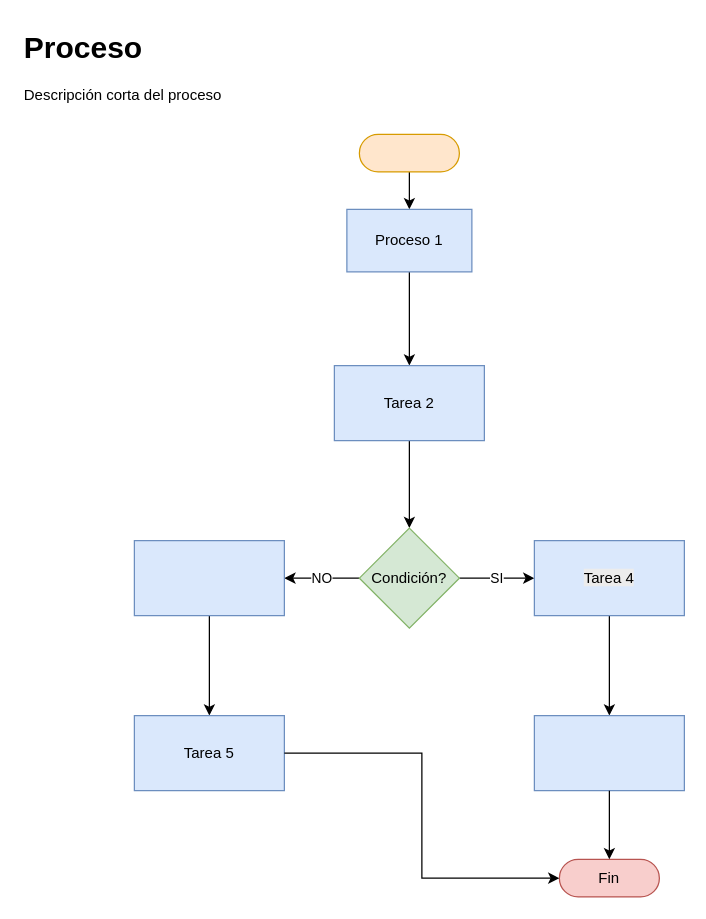
The diagram is 706 pixels wide and 919 high, and some of its shapes have lost their labels. Here are the shapes that lost their labels. From the top down, the box of each, then its label:
(358, 133, 459, 172): Inicia
(133, 539, 284, 616): Tarea 3
(533, 714, 684, 791): Tarea 6
